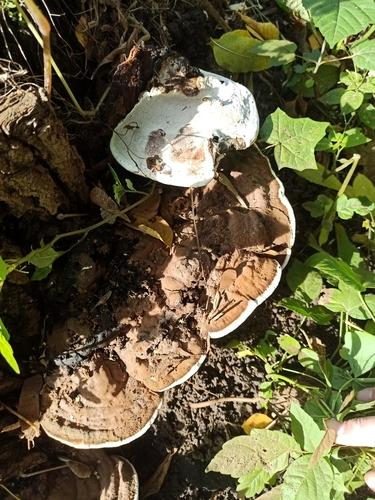Ganoderma - Fruit Body: (21, 140, 299, 447), (114, 61, 251, 187)
